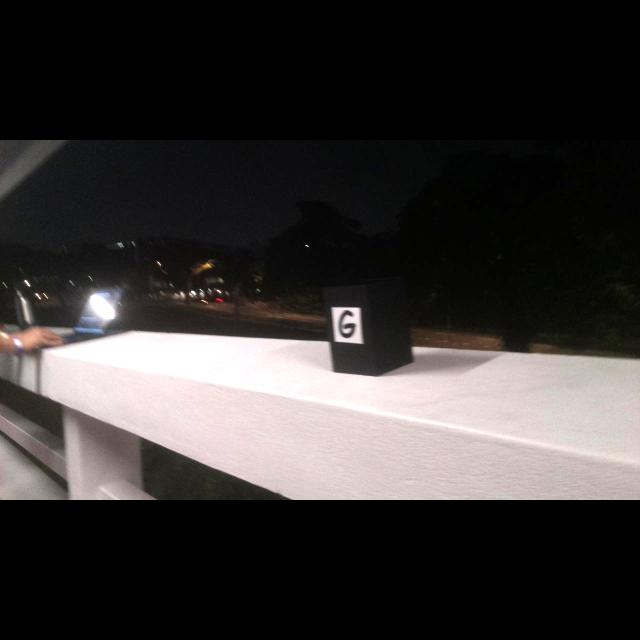G: (339, 310, 355, 338)
